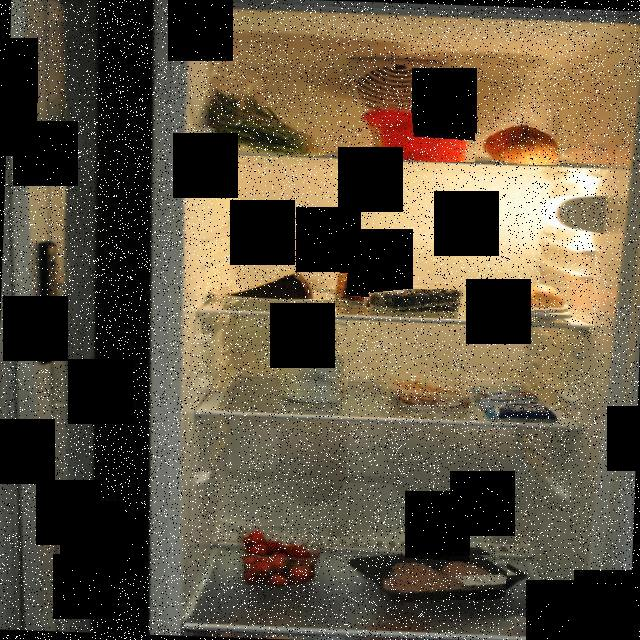blueberries: (368, 290, 465, 314)
butter: (358, 104, 476, 162)
chicken_breast: (381, 548, 508, 600)
chocolate: (470, 385, 558, 422)
corn: (334, 266, 382, 307)
eggs: (496, 284, 568, 318)
green_beans: (200, 85, 326, 156)
shrimp: (386, 374, 471, 410)
strawberries: (237, 526, 321, 585)
sugar: (274, 317, 348, 403), (226, 268, 314, 302)
sweet_potato: (484, 117, 560, 165)
